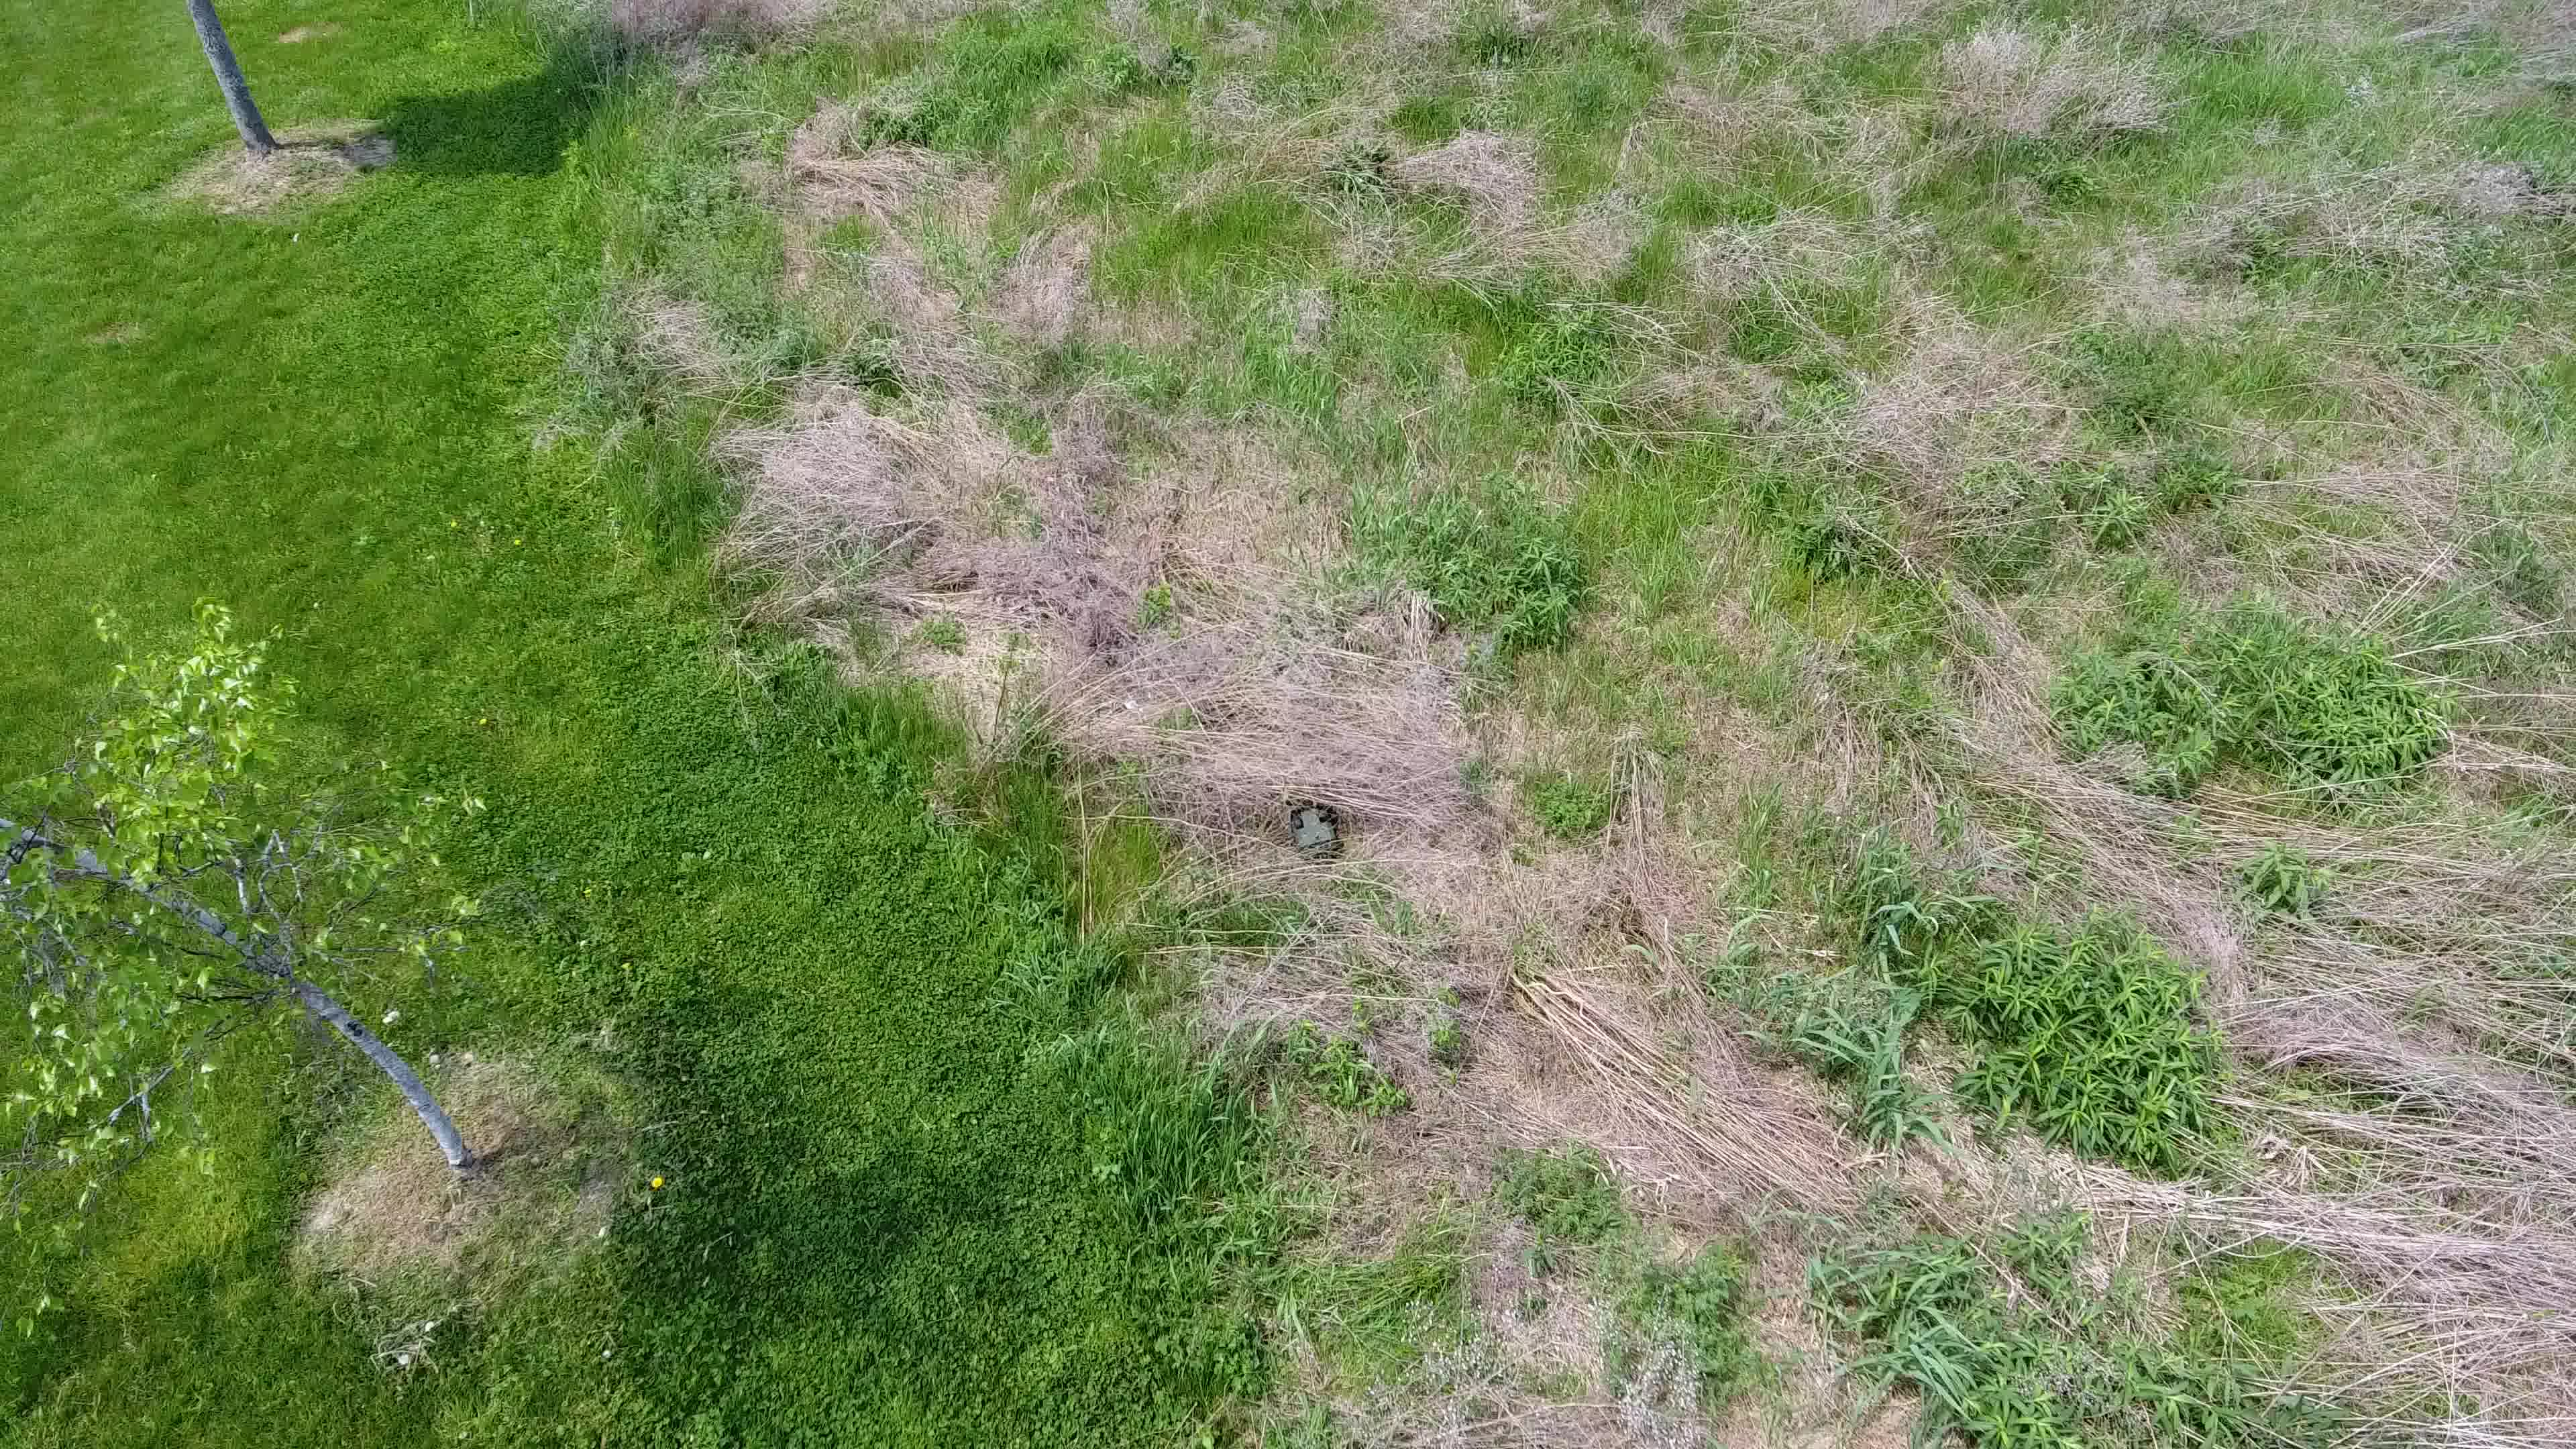transporter9: (1290, 805, 1341, 855)
